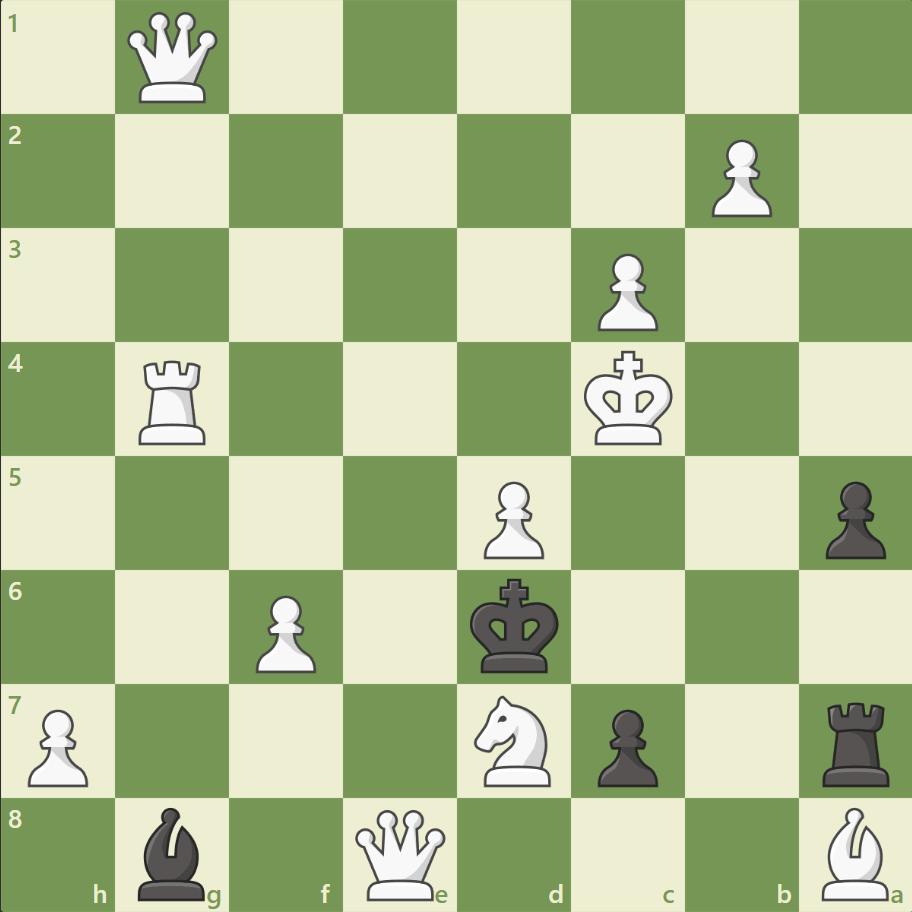B: (812, 801, 896, 904)
K: (579, 344, 679, 452)
N: (465, 688, 562, 791)
P: (20, 700, 95, 791), (247, 586, 322, 677), (474, 473, 549, 564), (701, 132, 776, 223), (588, 246, 662, 337)
Q: (351, 804, 450, 903), (124, 9, 223, 108)
R: (133, 352, 215, 449)
b: (131, 801, 215, 904)
k: (465, 571, 565, 679)
p: (588, 700, 662, 791), (815, 473, 889, 564)
r: (814, 693, 897, 790)
